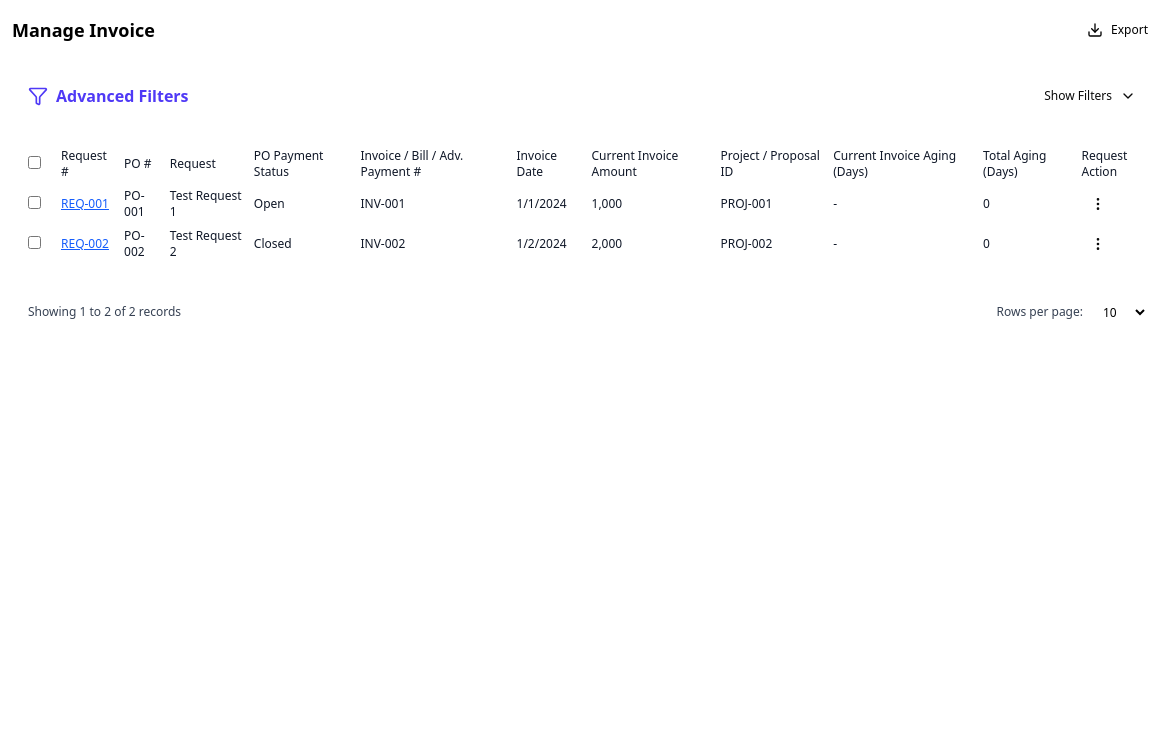
Scenario: InvoicesContent Component › should clear filters
Expected: the button "REQ-001" is shown, [61,196,109,212]
Click the button "Show Filters": (1090, 96) [1032,80,1148,112]
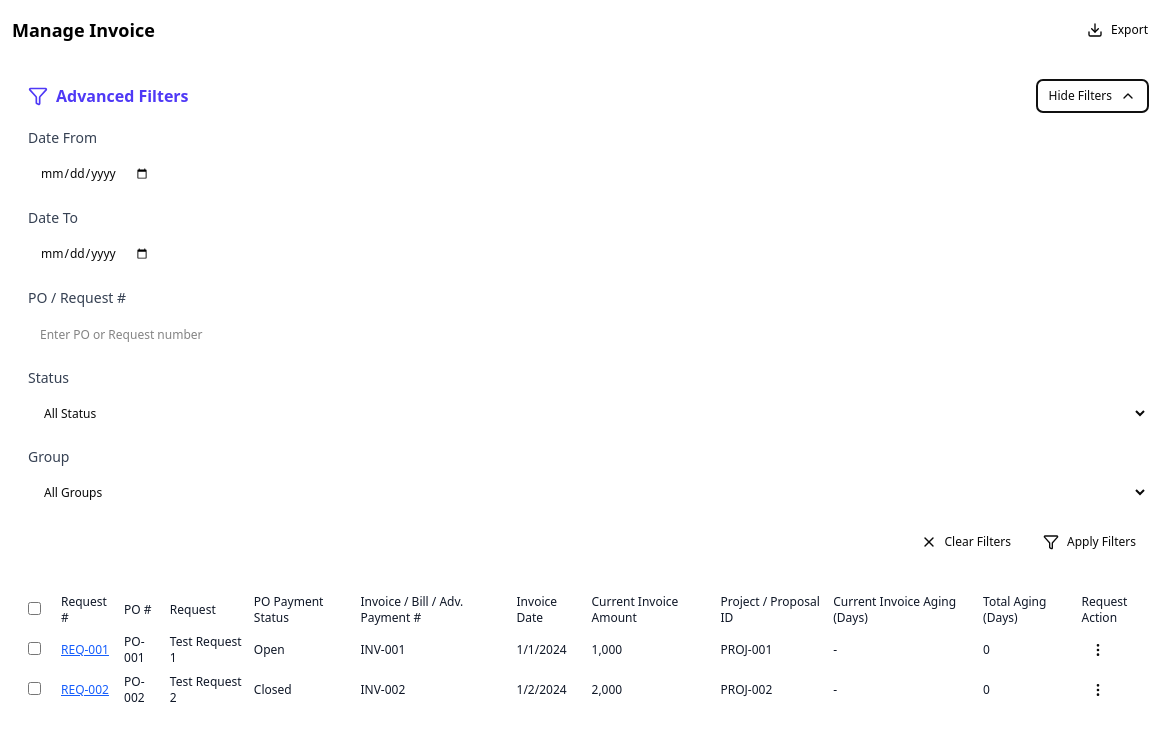
Now the date field labelled "Date From" is shown
In the date field labelled "Date From": (588, 174) [28,156,1148,192], type "2024-01-01"
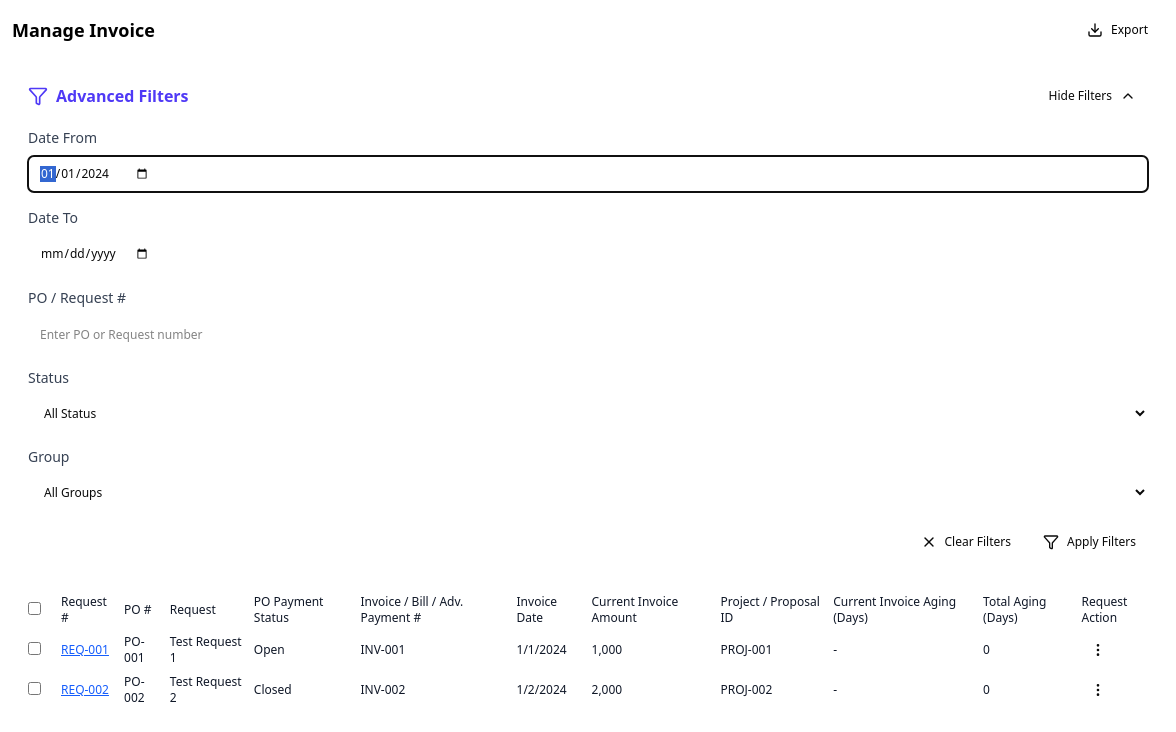
Click the button "Clear Filters": (966, 542) [908,526,1023,558]
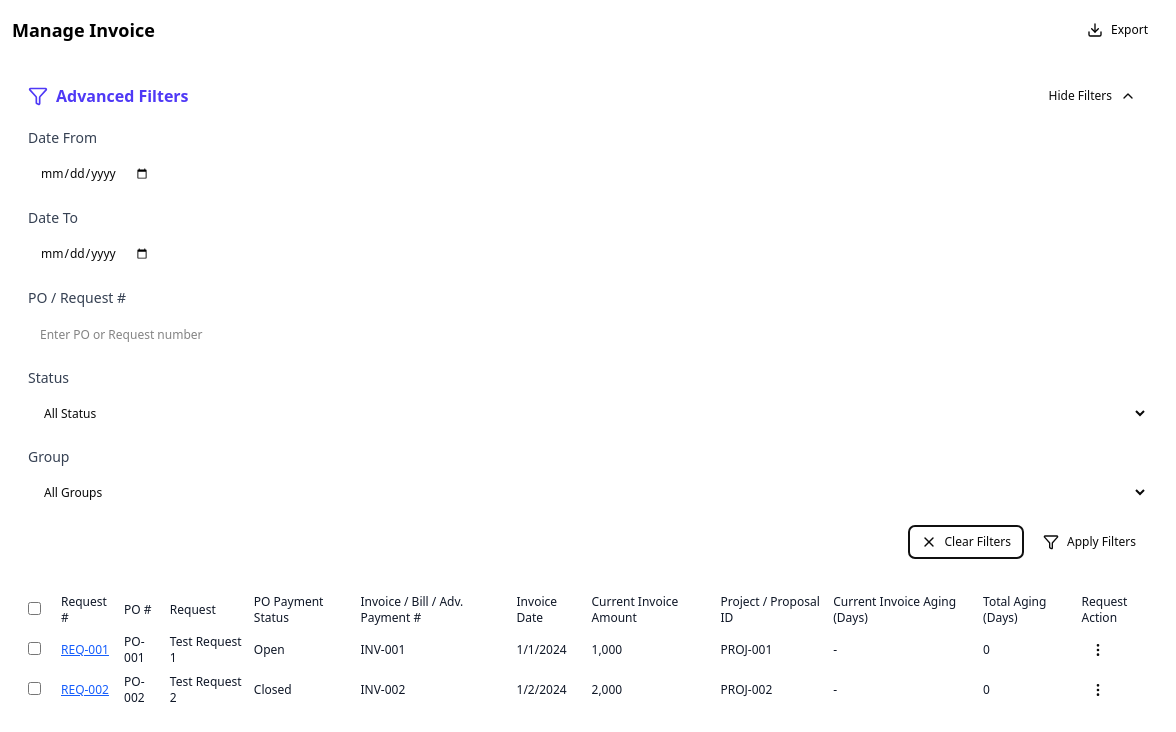
Now the date field labelled "Date From" is empty, box [28,156,1148,192]
